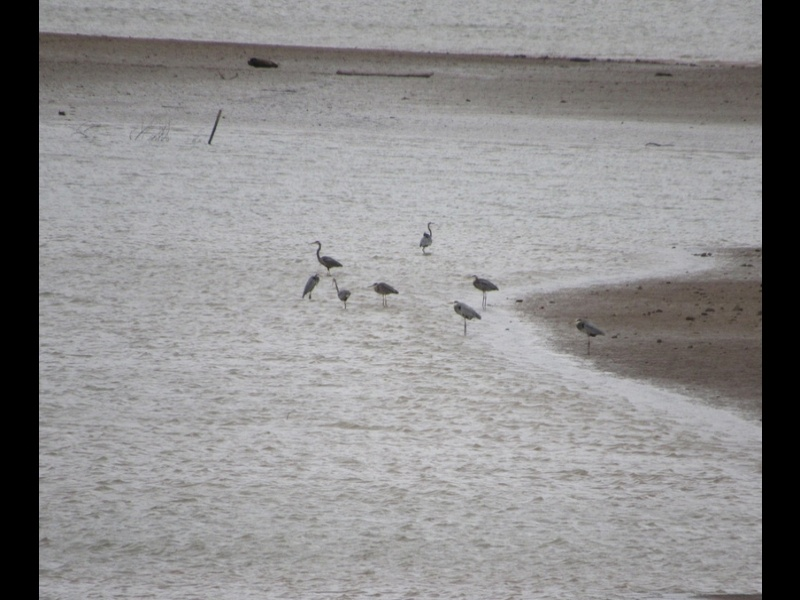heron: (571, 315, 607, 356), (448, 299, 483, 334), (467, 275, 500, 312), (312, 237, 343, 273), (368, 278, 398, 306), (301, 272, 320, 303), (418, 222, 434, 254), (334, 279, 351, 306)
